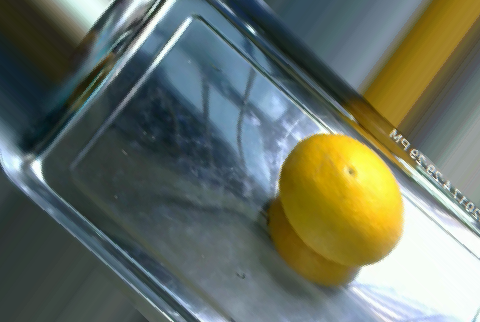Orange: (278, 133, 403, 264)
